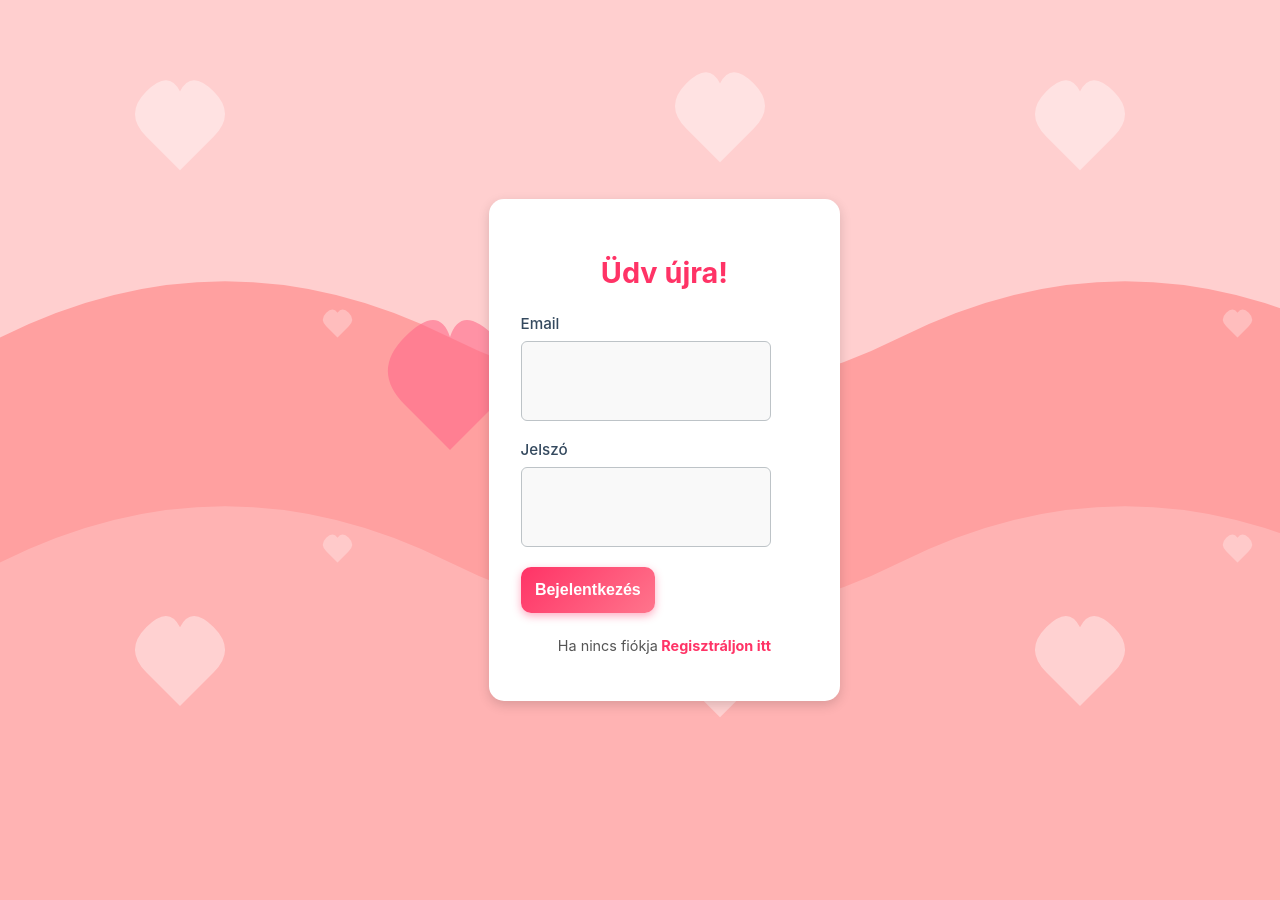
Test case: Login Component › shows a generic error message on network or server error
Type "test@example.com" into the field labelled "Email" at (646, 381), box [520,341,770,421]
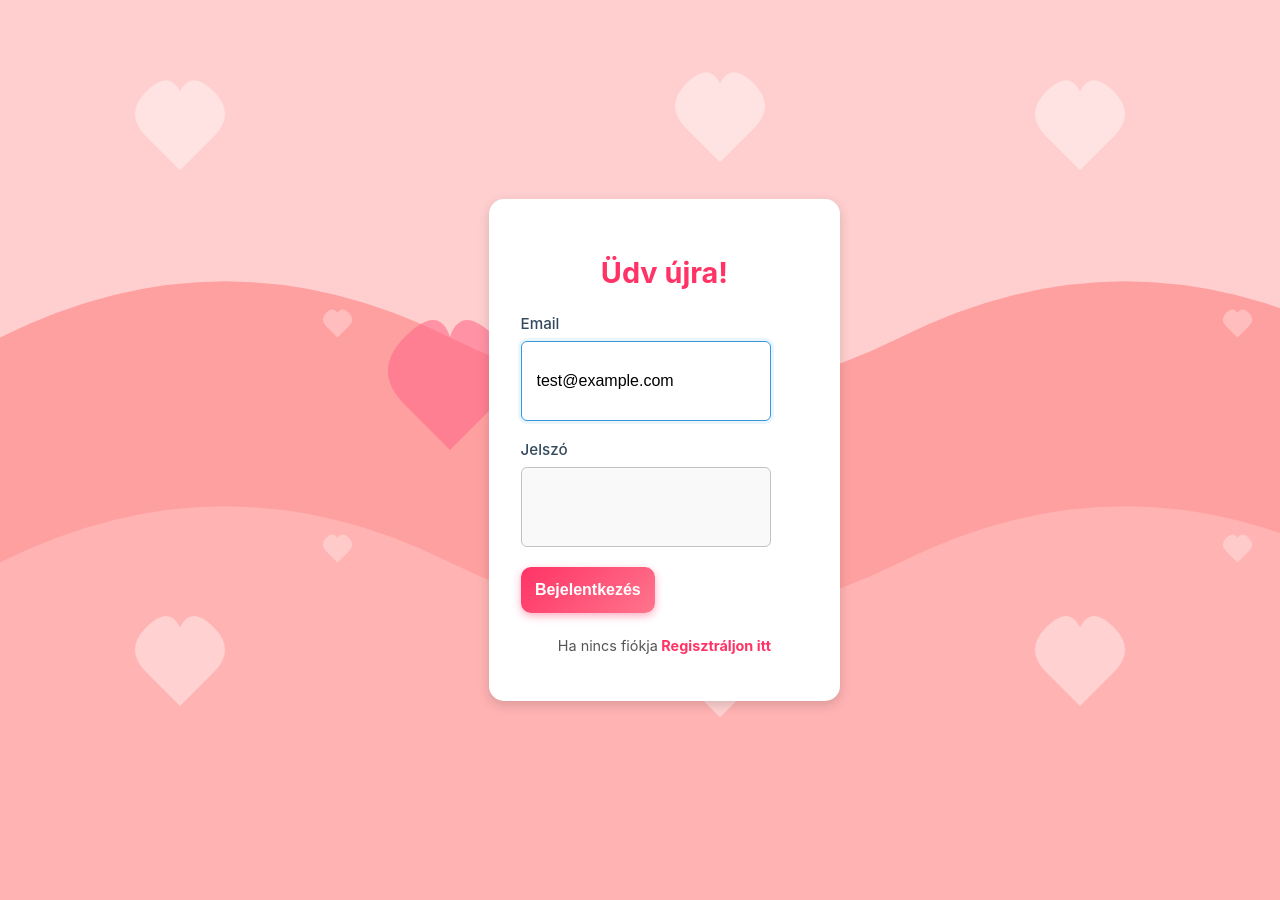
Type "password123" into the password field labelled "Jelszó" at (646, 507), box [520,467,770,547]
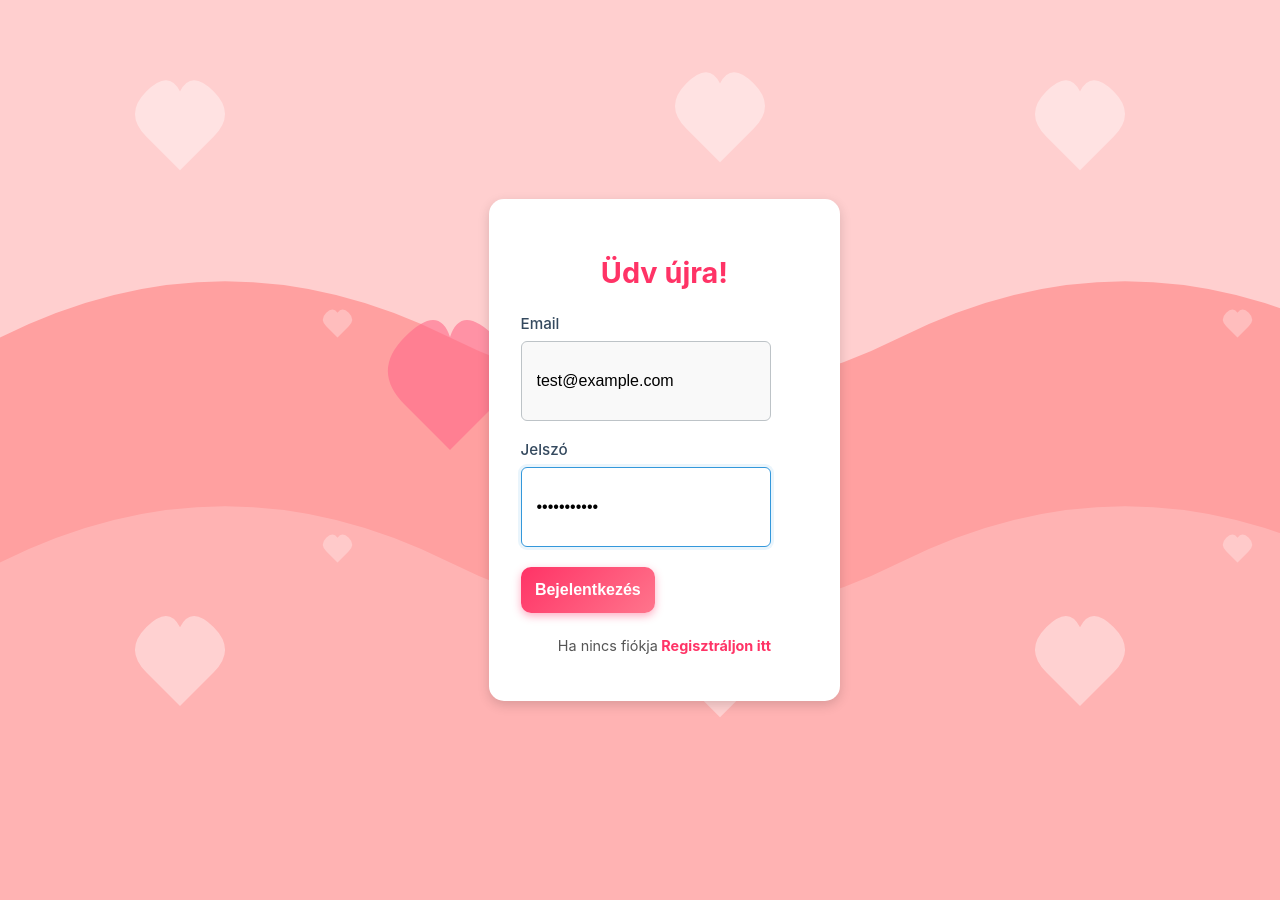
Click the button "Bejelentkezés" at (588, 590), box [520,566,655,613]
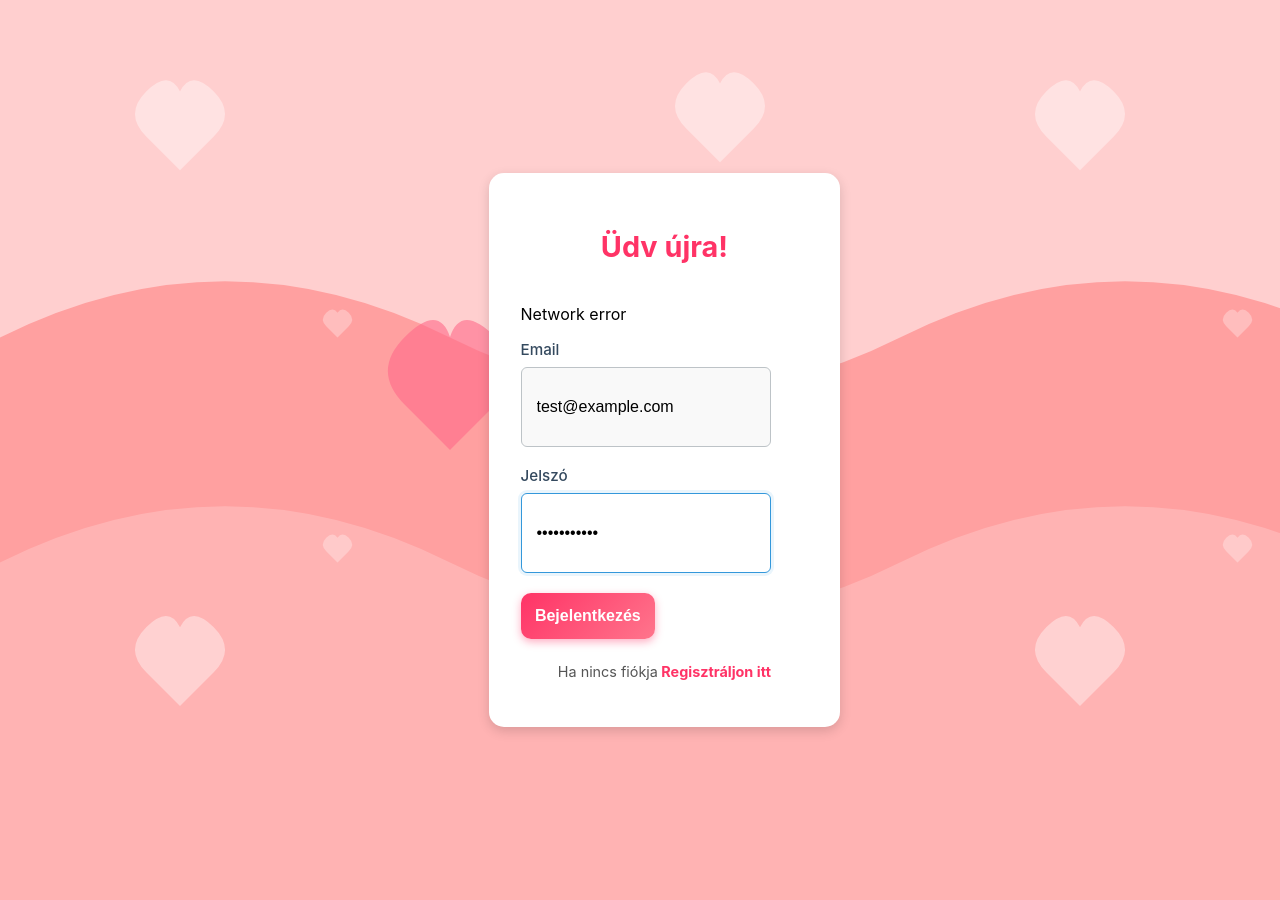
Expected: the text "Network error" is shown, [520,304,626,324]
